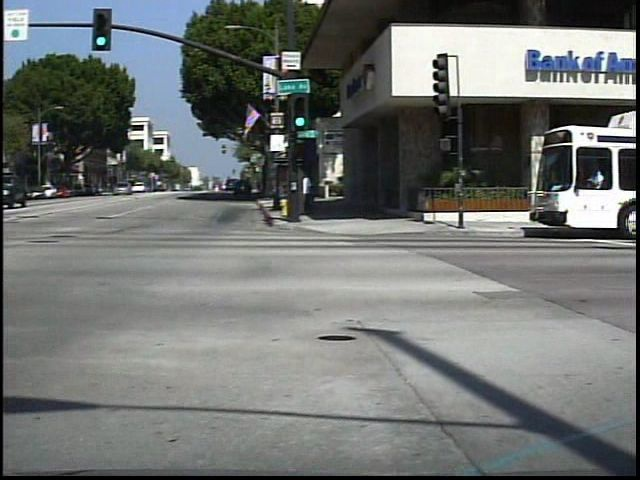person: (309, 167, 324, 217)
